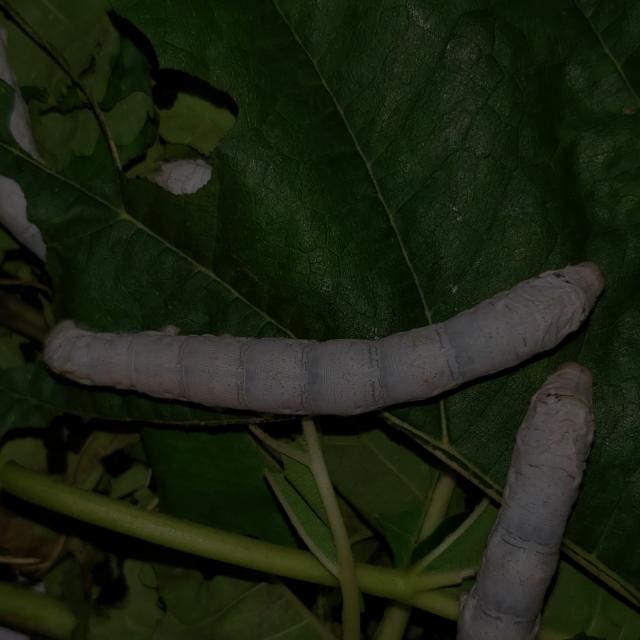Healthy: (36, 248, 614, 426)
